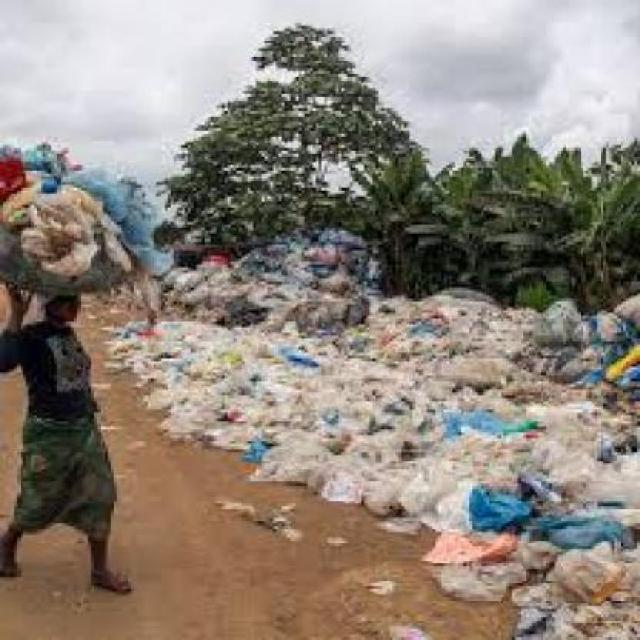garbage: (348, 293, 638, 529), (125, 225, 378, 416), (426, 506, 637, 637), (0, 140, 148, 251)
